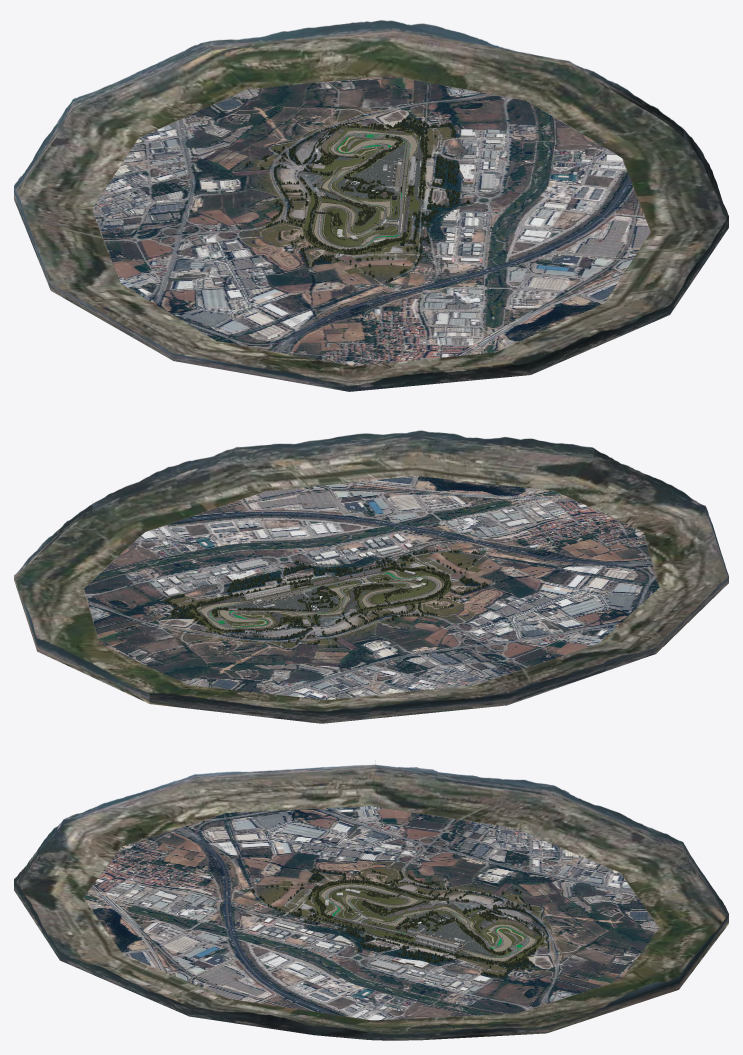
File: barcelona.glb
3 renders of one model, top to bottom at view 1: azimuth 30°, elevation 25°; view 2: azimuth 150°, elevation 25°; view 3: azimuth 270°, elevation 25°, orthographic. The views are drawn at different scales.
Visible parts, largest first — view 1: Object_92, Object_78, Object_58, Object_31, Object_95, Object_114, Object_21, Object_65, Object_94; view 2: Object_92, Object_78, Object_58, Object_31, Object_95, Object_114, Object_21, Object_65, Object_94, Object_116; view 3: Object_92, Object_78, Object_58, Object_31, Object_95, Object_114, Object_21, Object_65, Object_94, Object_116.
Part boxes in pixels (x1=…): Object_92: x1=92, y1=75, x2=650, y2=365; Object_78: x1=14, y1=20, x2=728, y2=391; Object_58: x1=245, y1=117, x2=469, y2=282; Object_31: x1=303, y1=126, x2=424, y2=253; Object_95: x1=309, y1=128, x2=422, y2=251; Object_114: x1=317, y1=133, x2=409, y2=248; Object_21: x1=314, y1=130, x2=417, y2=249; Object_65: x1=304, y1=123, x2=427, y2=252; Object_94: x1=312, y1=130, x2=418, y2=250; Object_92: x1=84, y1=476, x2=659, y2=699; Object_78: x1=14, y1=430, x2=728, y2=723; Object_58: x1=164, y1=549, x2=487, y2=647; Object_31: x1=190, y1=567, x2=451, y2=632; Object_95: x1=189, y1=575, x2=446, y2=630; Object_114: x1=206, y1=572, x2=439, y2=628; Object_21: x1=199, y1=570, x2=442, y2=629; Object_65: x1=185, y1=567, x2=448, y2=631; Object_94: x1=198, y1=570, x2=443, y2=630; Object_116: x1=197, y1=569, x2=423, y2=630; Object_92: x1=83, y1=806, x2=659, y2=1020; Object_78: x1=14, y1=764, x2=728, y2=1040; Object_58: x1=251, y1=868, x2=548, y2=977; Object_31: x1=312, y1=880, x2=544, y2=964; Object_95: x1=327, y1=882, x2=539, y2=956; Object_114: x1=325, y1=885, x2=529, y2=958; Object_21: x1=321, y1=884, x2=534, y2=960; Object_65: x1=313, y1=879, x2=541, y2=964; Object_94: x1=319, y1=884, x2=536, y2=961; Object_116: x1=326, y1=890, x2=537, y2=961.
Size of what is drawn, in the model's own units: 3723 by 188 by 4145.
99 materials, 99 textured.
